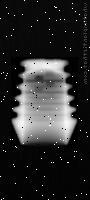3M ESPE: (10, 57, 80, 147)
